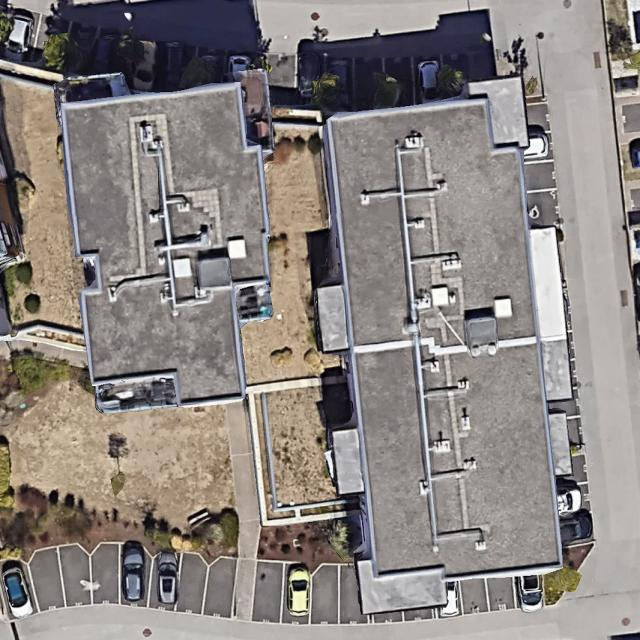immeuble: (291, 76, 582, 617), (56, 67, 285, 416)
